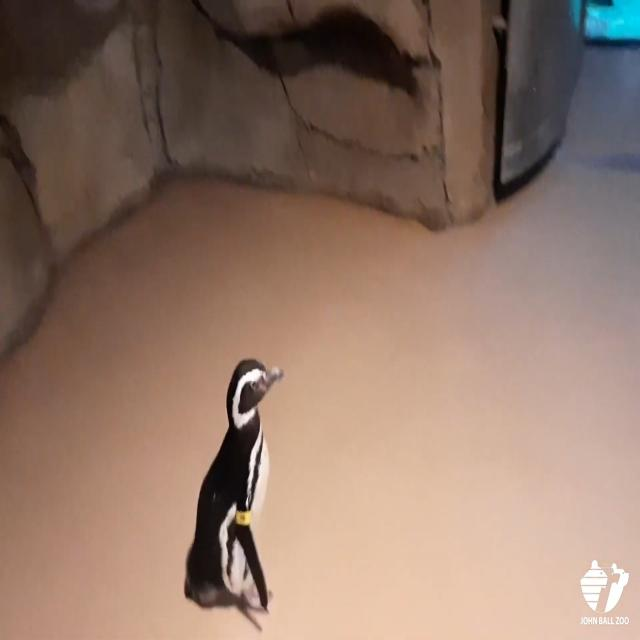penguin: (182, 361, 285, 618)
